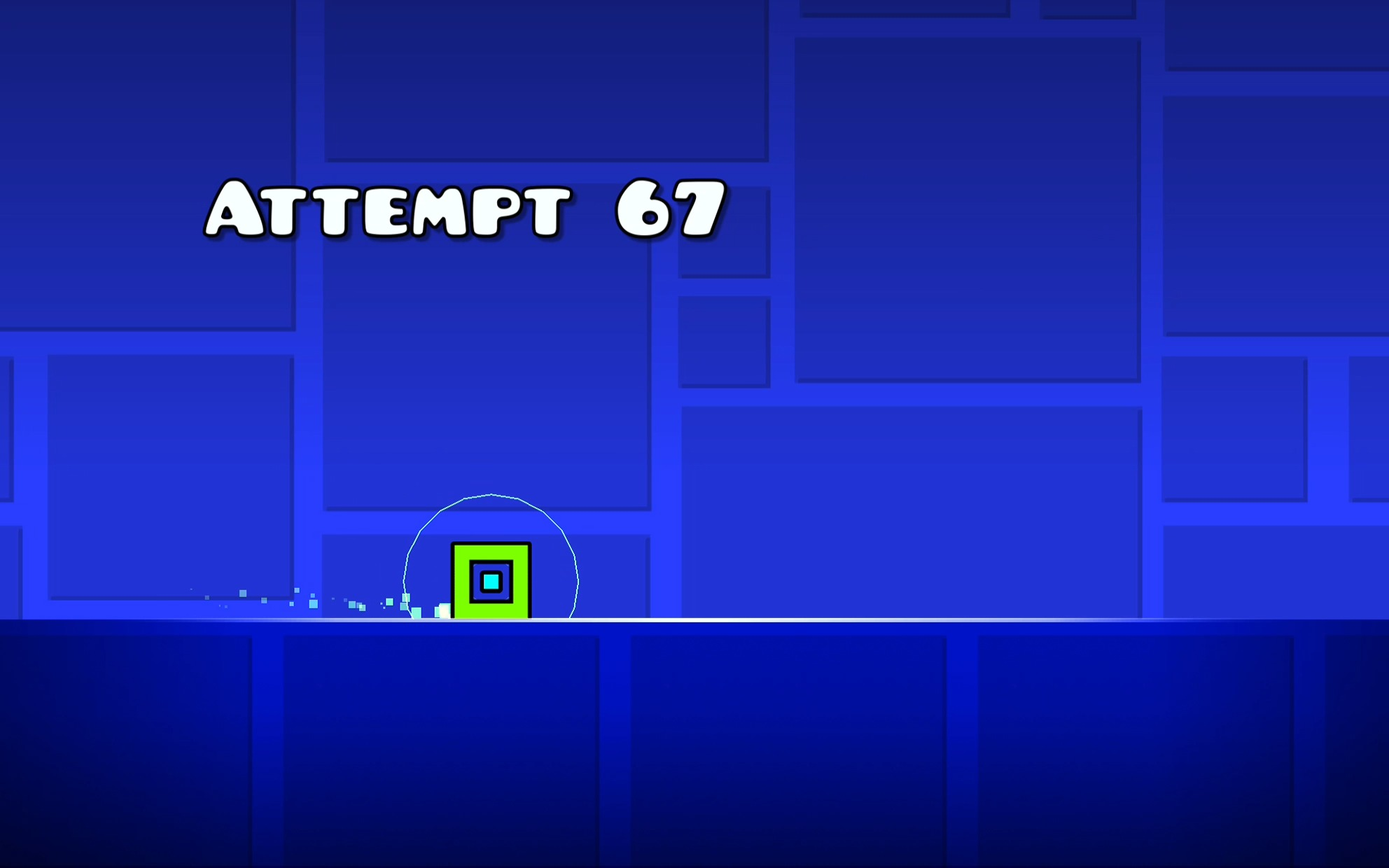Player: (451, 542, 533, 619)
